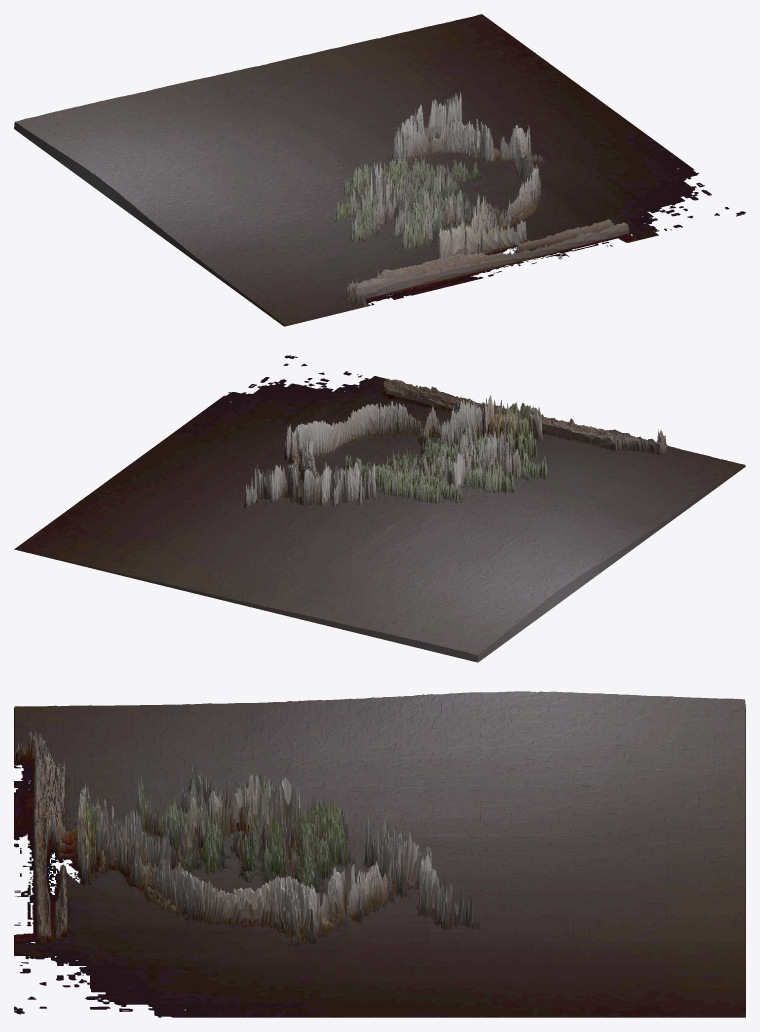
File: bonsai-front.glb
3 renders of one model, top to bottom at view 1: azimuth 30°, elevation 25°; view 2: azimuth 150°, elevation 25°; view 3: azimuth 270°, elevation 25°, orthographic. The views are drawn at different scales.
Parts seen in each view (by area): view 1: Bonsai; view 2: Bonsai; view 3: Bonsai.
Boxes of the visible parts, bbox=[...] form: Bonsai: bbox=[14, 14, 745, 326]; Bonsai: bbox=[14, 355, 745, 662]; Bonsai: bbox=[14, 691, 745, 1017].
Bounding box in the file's own units: 100 × 9.06 × 100.
